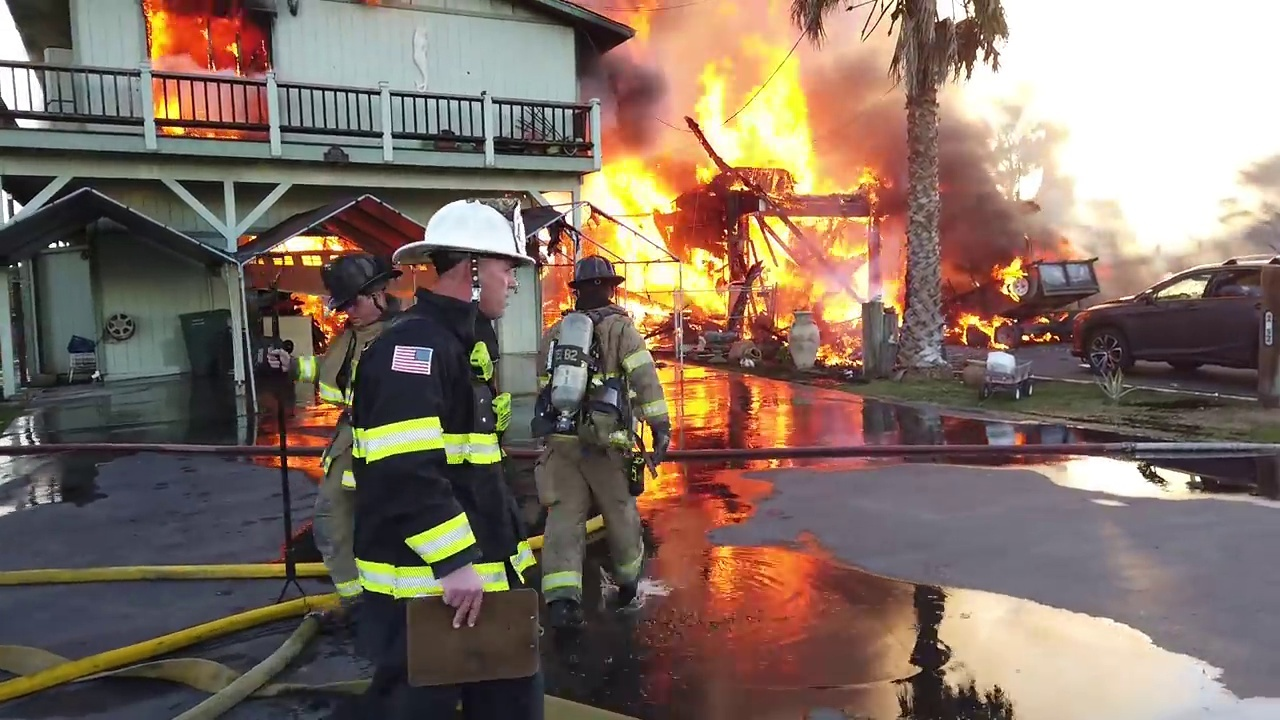fire: (693, 62, 819, 194), (744, 212, 871, 338), (171, 9, 266, 69), (589, 160, 670, 212), (265, 235, 351, 275), (682, 245, 727, 318), (293, 293, 348, 347), (139, 1, 169, 69), (957, 309, 995, 342), (812, 336, 851, 366), (1022, 331, 1060, 342)
smoke: (934, 111, 1077, 256), (643, 2, 898, 68), (816, 6, 904, 188), (1119, 172, 1233, 249), (580, 47, 677, 137), (183, 72, 266, 134)
